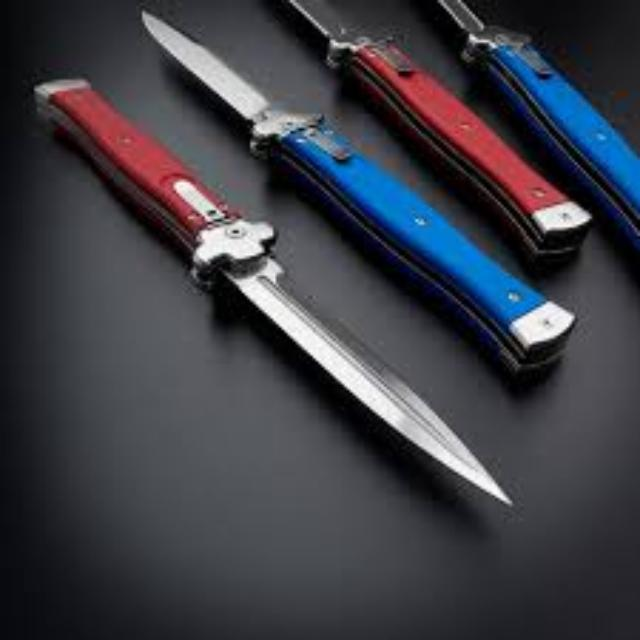Knife: (29, 74, 515, 506), (137, 1, 577, 376), (373, 0, 637, 364)
